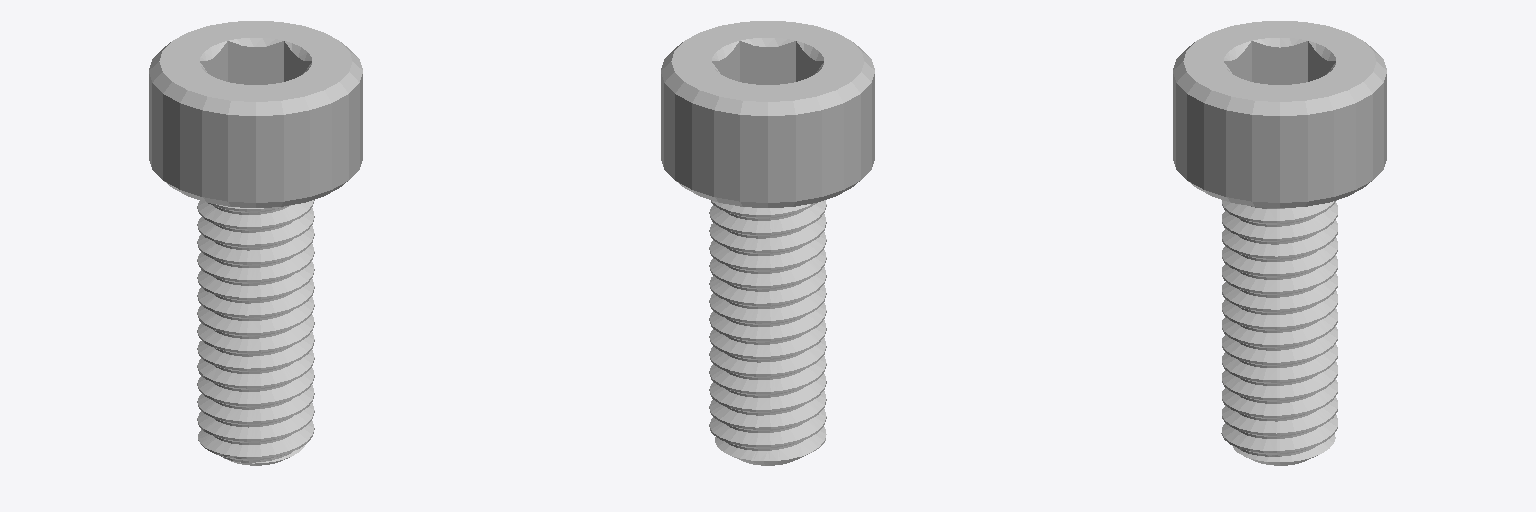
File: T200_03_T200STEP_T200STEPSTEP_T200STEP1_02_T200STEP1.obj
The picture shows the model from 3 angles: view 1: azimuth 30°, elevation 25°; view 2: azimuth 150°, elevation 25°; view 3: azimuth 270°, elevation 25°; orthographic projection.
Size of the model in its own units: 0.0055 by 0.011 by 0.0055.